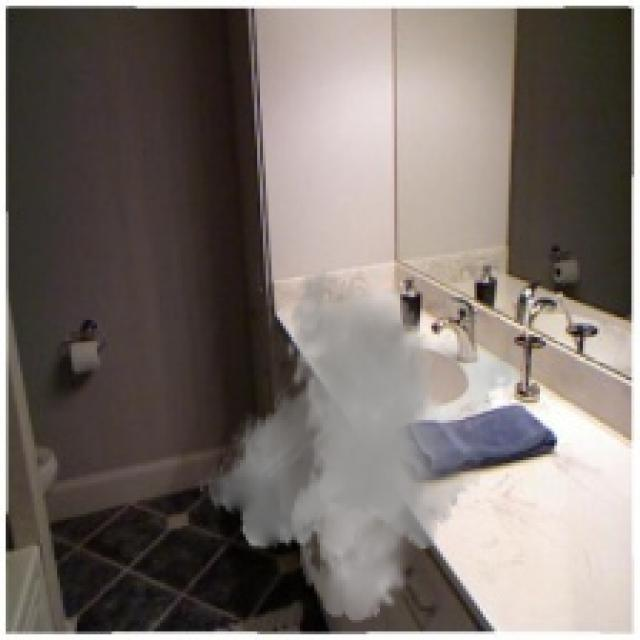smoke: (197, 268, 543, 623)
